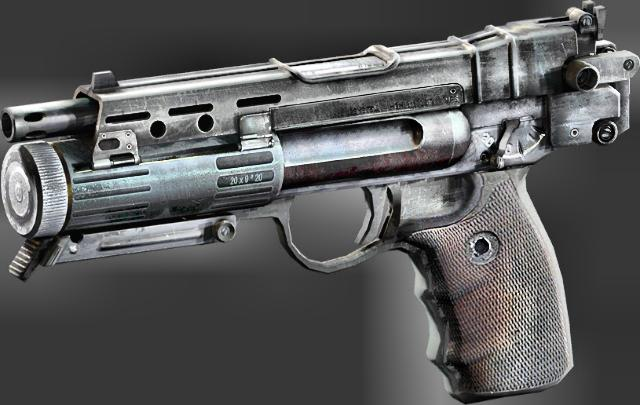pistol: (2, 2, 638, 400)
